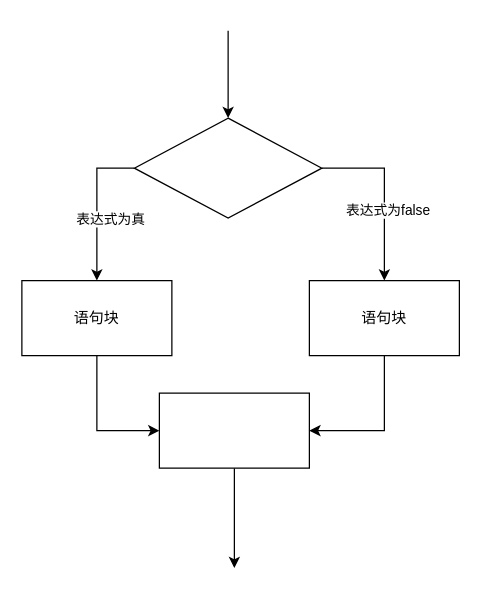
Image size: 481x600. Some labels were removed from this diagram. Each missing label, with the centre of its shape:
"下一条语句" belongs at (x=233, y=430).
"条件表达式 布尔值" belongs at (x=227, y=167).
